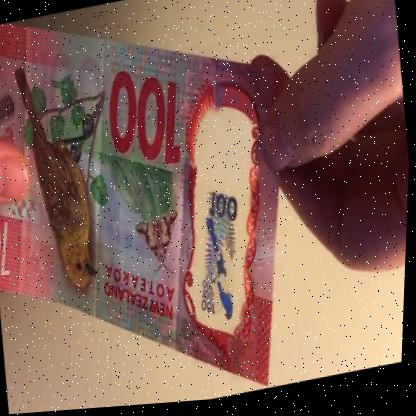100B: (185, 165, 257, 336)
